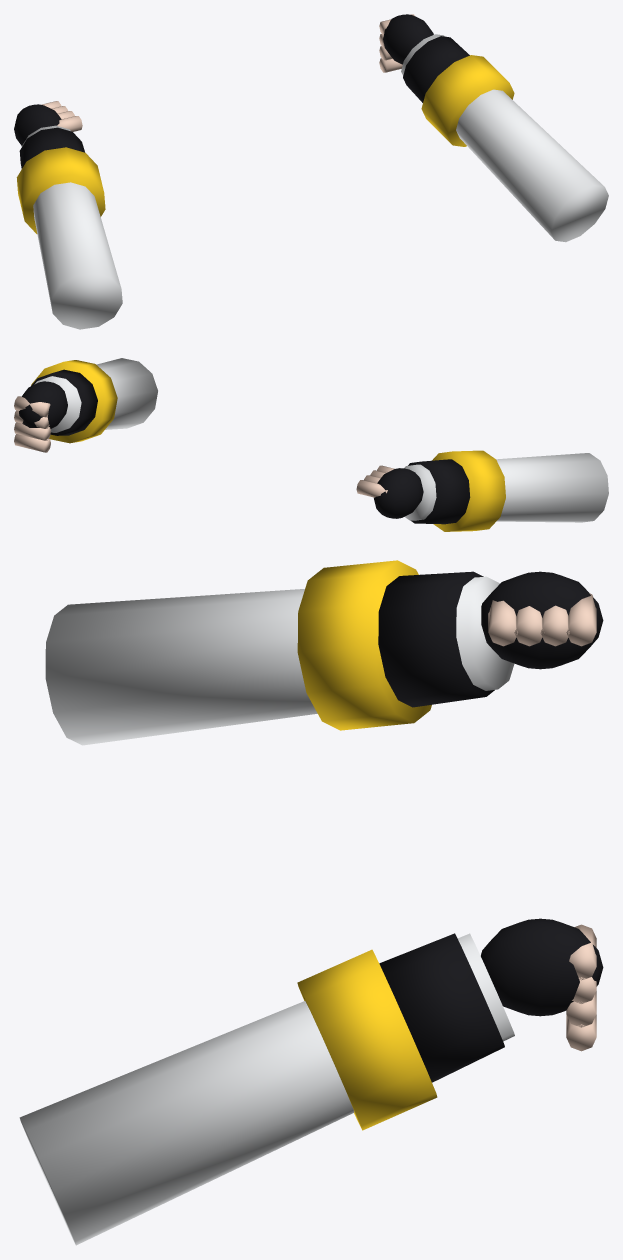
The model's file is fp_sora.glb.
The picture shows the model from 3 angles, top to bottom: view 1: azimuth 30°, elevation 25°; view 2: azimuth 150°, elevation 25°; view 3: azimuth 270°, elevation 25°; orthographic projection. The views are drawn at different scales.
Parts seen in each view (by area): view 1: ArmR, ArmL; view 2: ArmL, ArmR; view 3: ArmR, ArmL.
Boxes of the visible parts, left/top/right/bottom form: ArmR: left=379, top=14, right=608, bottom=242; ArmL: left=14, top=101, right=122, bottom=329; ArmL: left=356, top=450, right=608, bottom=531; ArmR: left=14, top=358, right=157, bottom=452; ArmR: left=19, top=918, right=603, bottom=1245; ArmL: left=45, top=560, right=603, bottom=745.
Bounding box in the file's own units: 0.8878 × 0.2233 × 0.4266.
